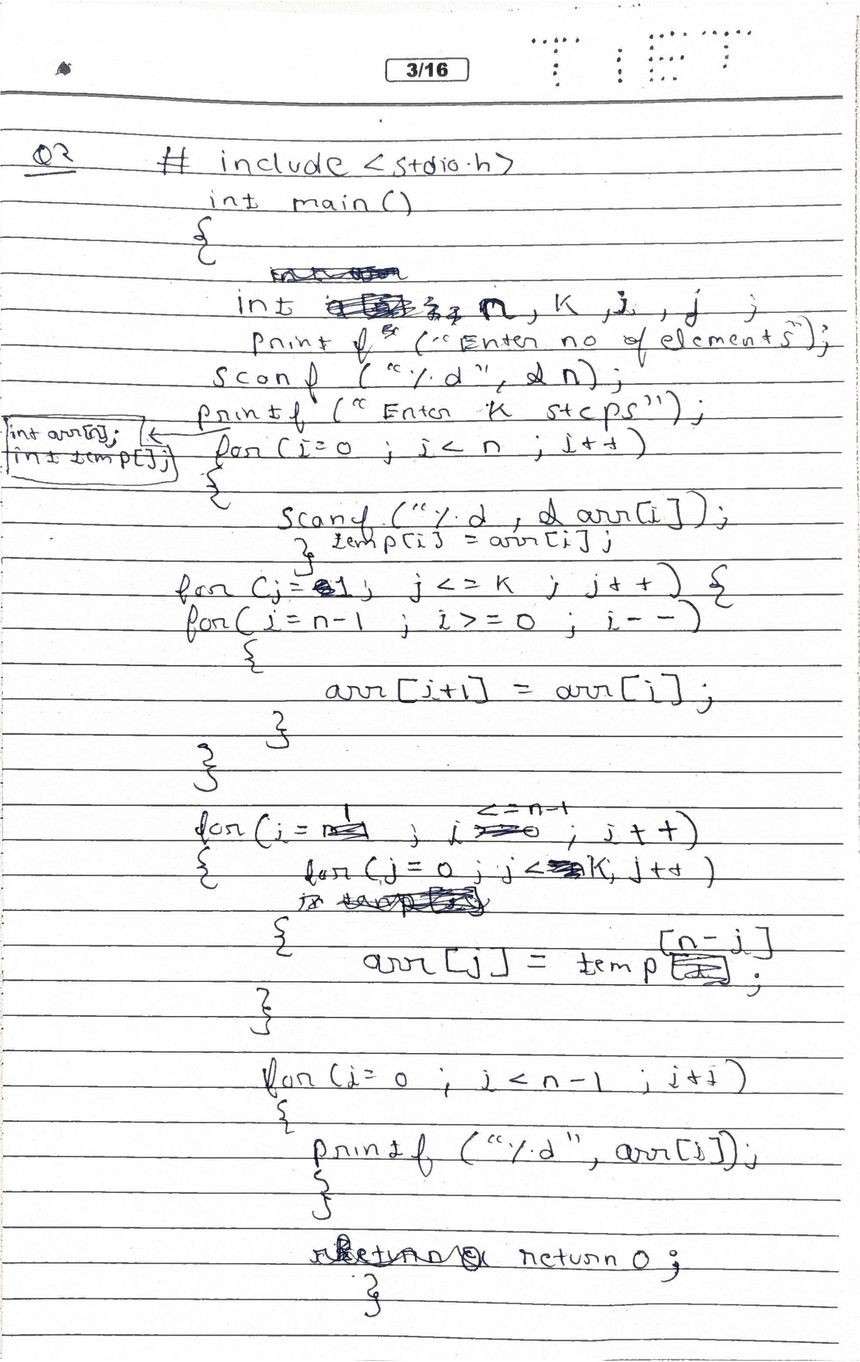cuttings: (308, 1232, 490, 1274), (335, 883, 494, 918), (323, 292, 464, 327), (268, 264, 412, 285), (671, 953, 731, 985), (471, 823, 540, 839), (322, 820, 370, 841), (546, 858, 586, 881), (297, 893, 324, 914), (312, 578, 336, 600), (380, 323, 399, 339)
